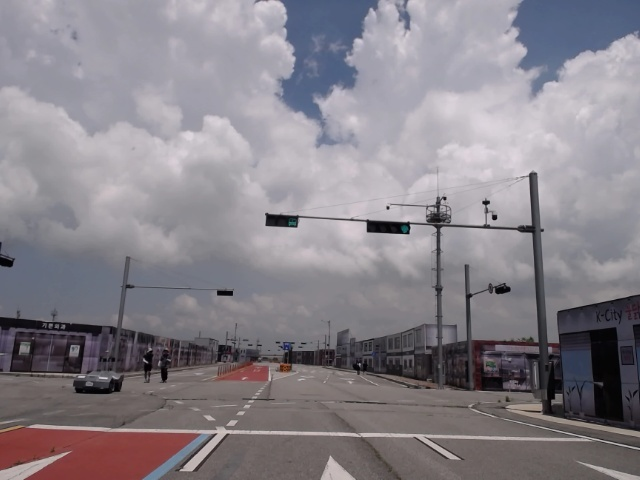straight_green_4: (369, 220, 413, 234)
